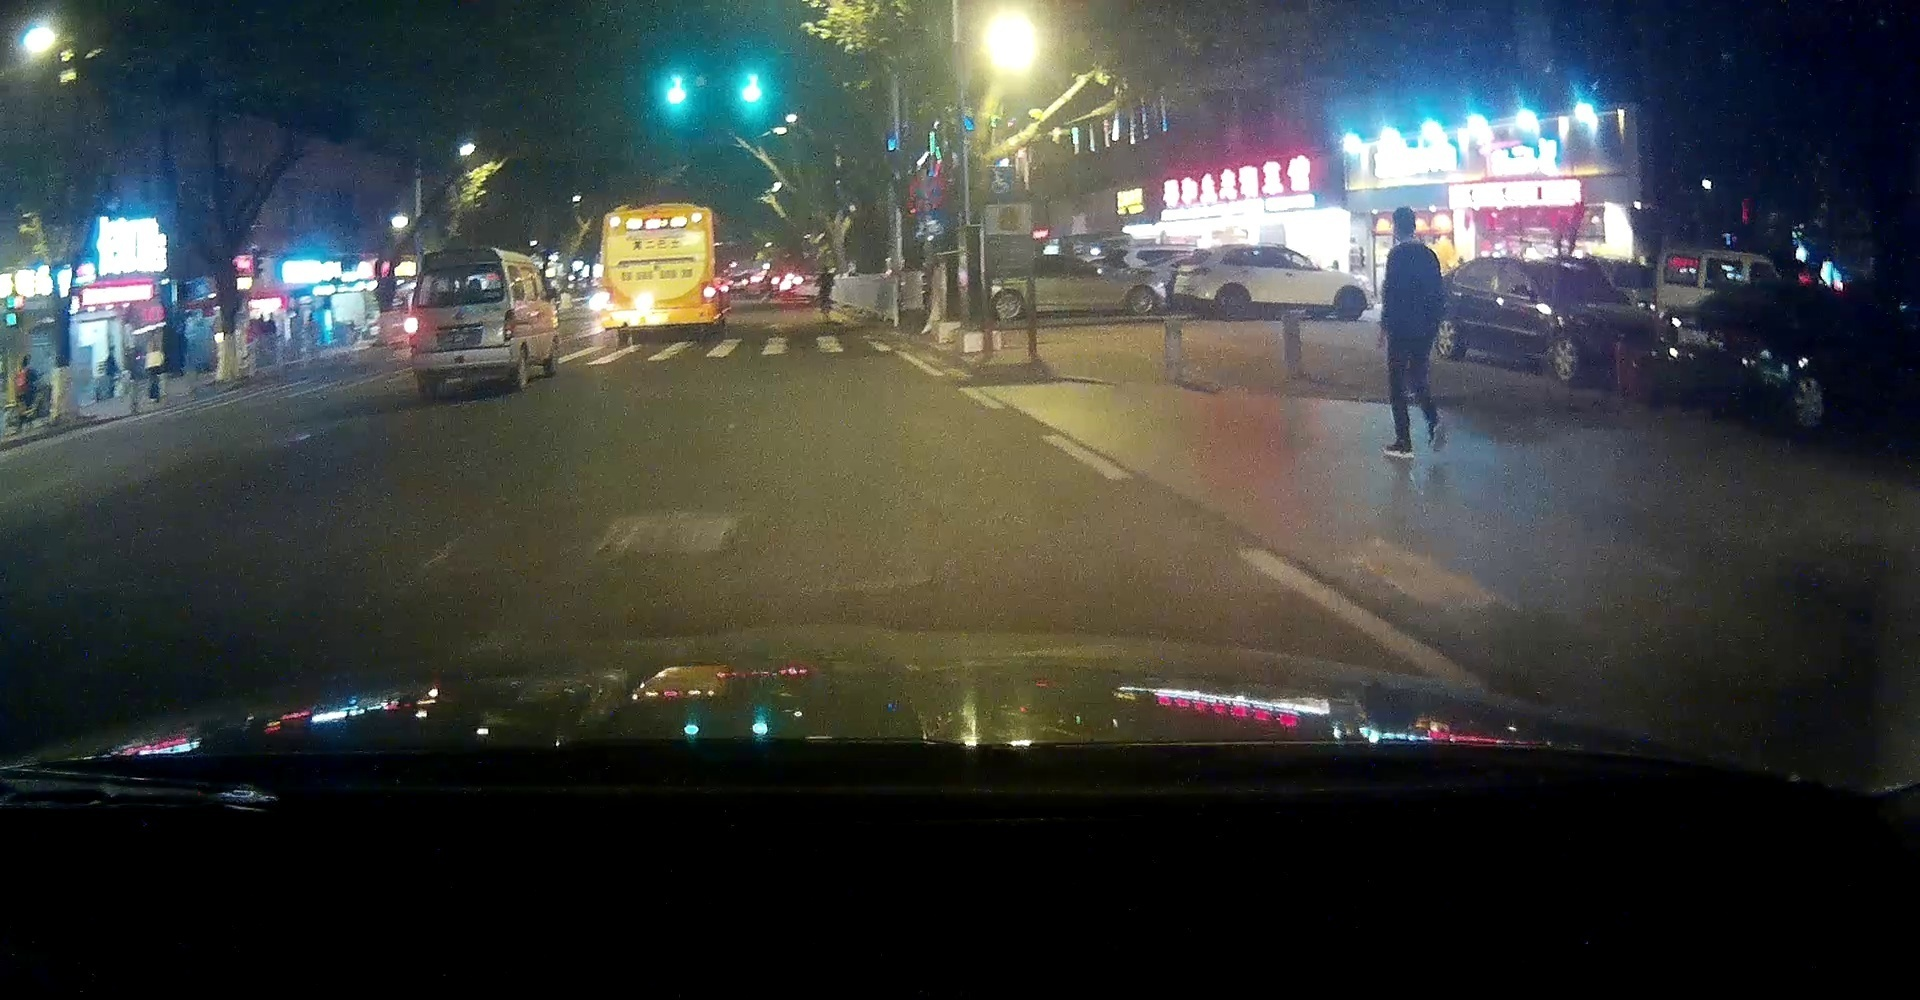L_light: (404, 316, 419, 355), (602, 286, 613, 313)
R_light: (702, 279, 717, 305), (504, 308, 516, 341)
T_light: (450, 264, 465, 270), (648, 212, 663, 217)
night-left: (403, 246, 519, 395)
night-no: (601, 203, 717, 343)
